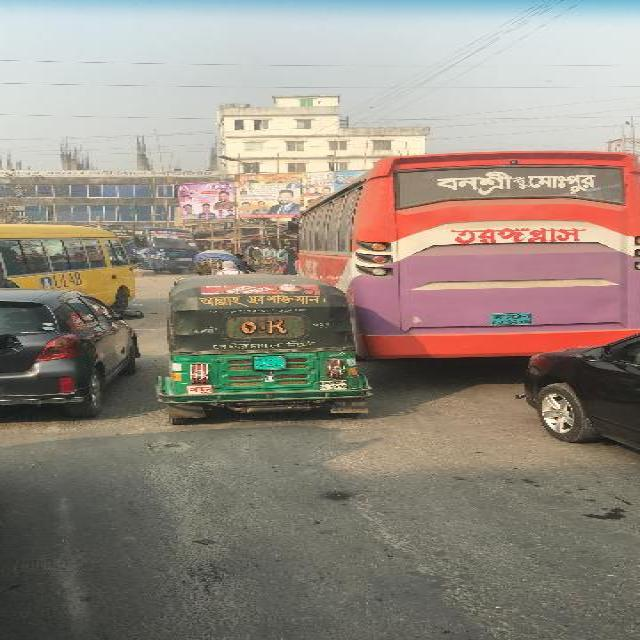bus: (294, 149, 638, 359), (107, 226, 199, 272)
car: (2, 289, 140, 417), (516, 331, 636, 453)
minibus: (3, 224, 136, 312)
rickshaw: (193, 248, 251, 274), (244, 242, 278, 274)
three wheelers -CNG-: (159, 273, 367, 423)
